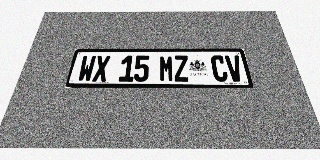1: (118, 56, 135, 82)
5: (134, 55, 149, 82)
C: (210, 55, 229, 82)
M: (159, 55, 174, 82)
V: (224, 55, 244, 82)
W: (77, 56, 96, 82)
X: (92, 56, 110, 82)
Z: (174, 55, 189, 82)
